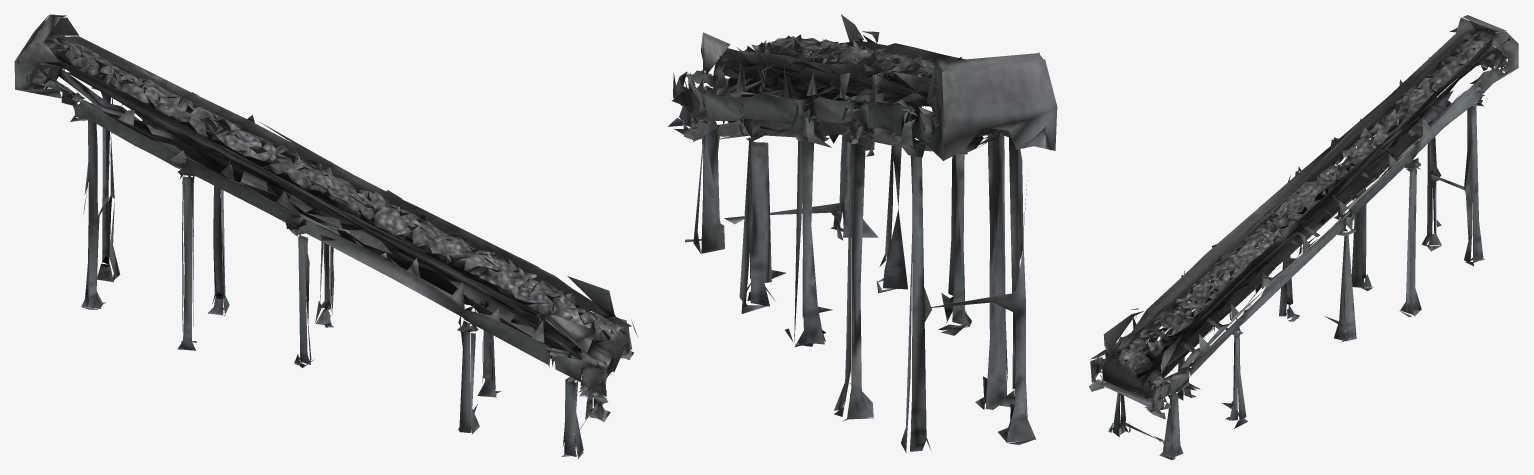
Rendered from steinbruch_foerderband.glb.
The picture shows the model from 3 angles, left to right: view 1: azimuth 30°, elevation 25°; view 2: azimuth 150°, elevation 25°; view 3: azimuth 270°, elevation 25°; orthographic projection. The views are drawn at different scales.
Parts seen in each view (by area): view 1: Prop; view 2: Prop; view 3: Prop.
Boxes of the visible parts, left/top/right/bottom form: Prop: left=14, top=14, right=637, bottom=459; Prop: left=668, top=14, right=1057, bottom=452; Prop: left=1089, top=15, right=1518, bottom=459.
Size of the model in its own units: 1.32 by 1.01 by 1.38.
1 material, 1 textured.
